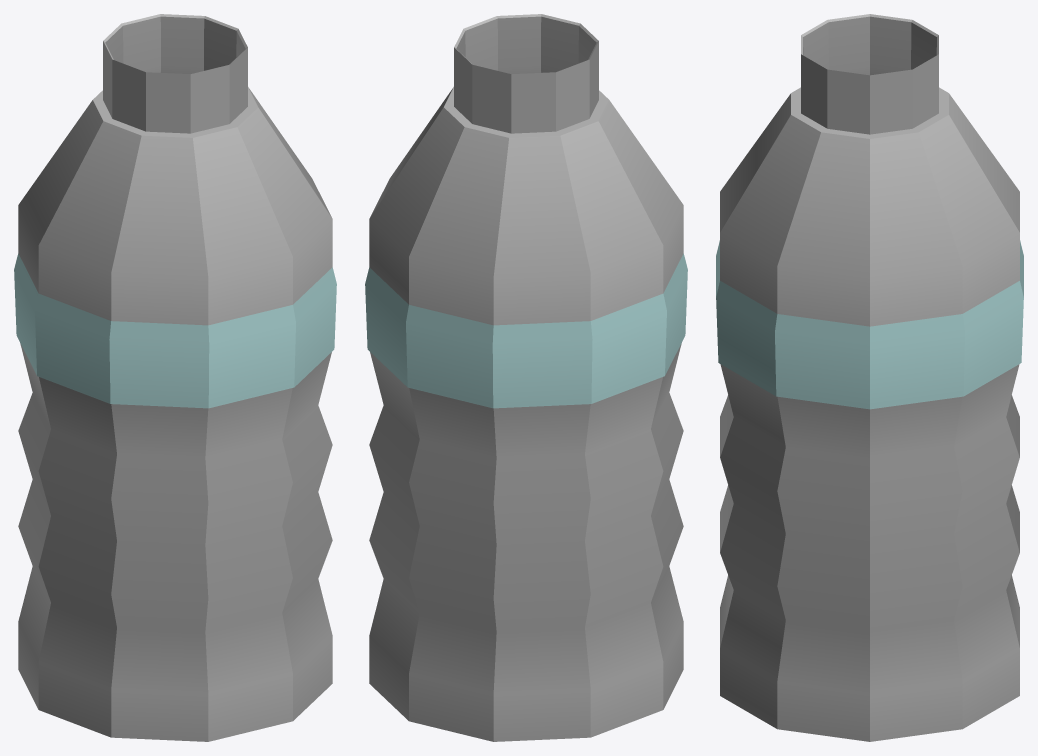
Rendered from WaterBottle_Empty.fbx.
3 renders of one model, left to right at view 1: azimuth 30°, elevation 25°; view 2: azimuth 150°, elevation 25°; view 3: azimuth 270°, elevation 25°, orthographic.
Parts seen in each view (by area): view 1: polySurface10; view 2: polySurface10; view 3: polySurface10.
Part boxes in pixels (x1,y1,x2,y2): polySurface10: (14, 14, 336, 741); polySurface10: (365, 14, 687, 741); polySurface10: (716, 14, 1023, 741).
Size of the model in its own units: 10.27 by 22.07 by 9.76.
